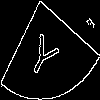Y: (24, 24, 64, 83)
